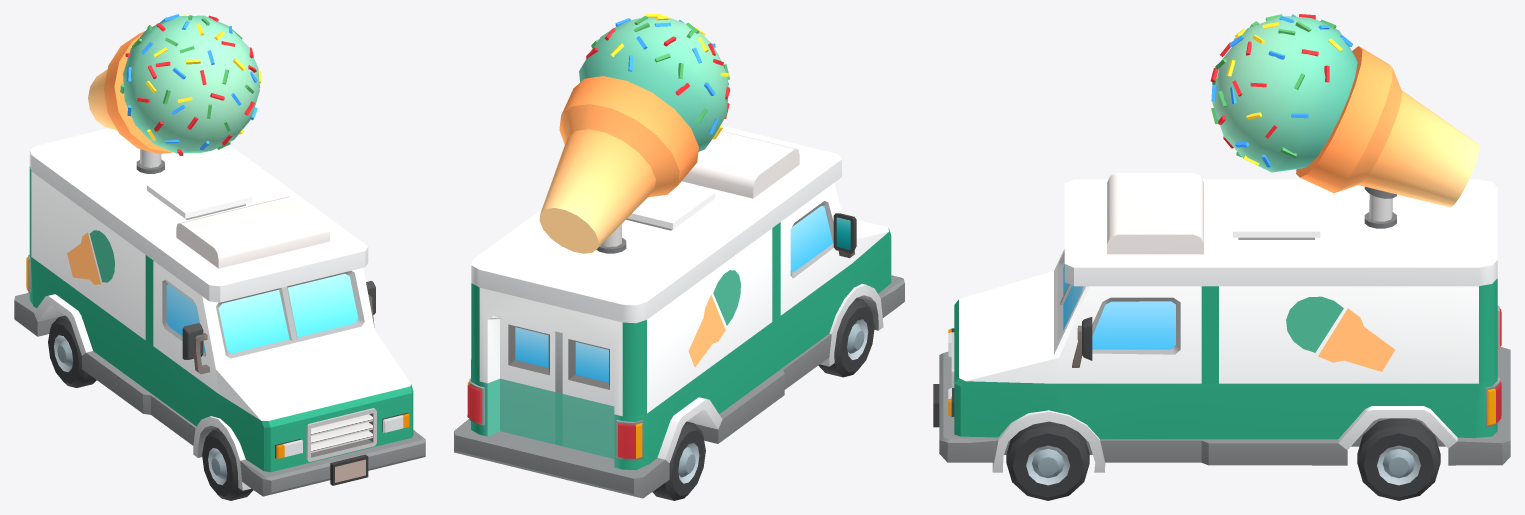
File: IceCream_Cargo_01.glb
3 views of the same model, side by side, from view 1: azimuth 30°, elevation 25°; view 2: azimuth 150°, elevation 25°; view 3: azimuth 270°, elevation 25° (orthographic). The views are drawn at different scales.
Visible parts, largest first — view 1: IceCream_Cargo_01, Wheel_214, Wheel_213; view 2: IceCream_Cargo_01, Wheel_214, Wheel_213; view 3: IceCream_Cargo_01, Wheel_216, Wheel_215.
Part boxes in pixels (<box>): IceCream_Cargo_01: <box>14,14,425,496</box>; Wheel_214: <box>202,428,253,500</box>; Wheel_213: <box>48,315,96,387</box>; IceCream_Cargo_01: <box>454,14,904,498</box>; Wheel_214: <box>818,298,874,377</box>; Wheel_213: <box>652,421,705,500</box>; IceCream_Cargo_01: <box>933,14,1510,472</box>; Wheel_216: <box>1357,418,1440,500</box>; Wheel_215: <box>1006,421,1089,500</box>.
Bounding box in the file's own units: 2.4 × 4.6 × 5.53.
Materials: 2 (2 with a texture image).
